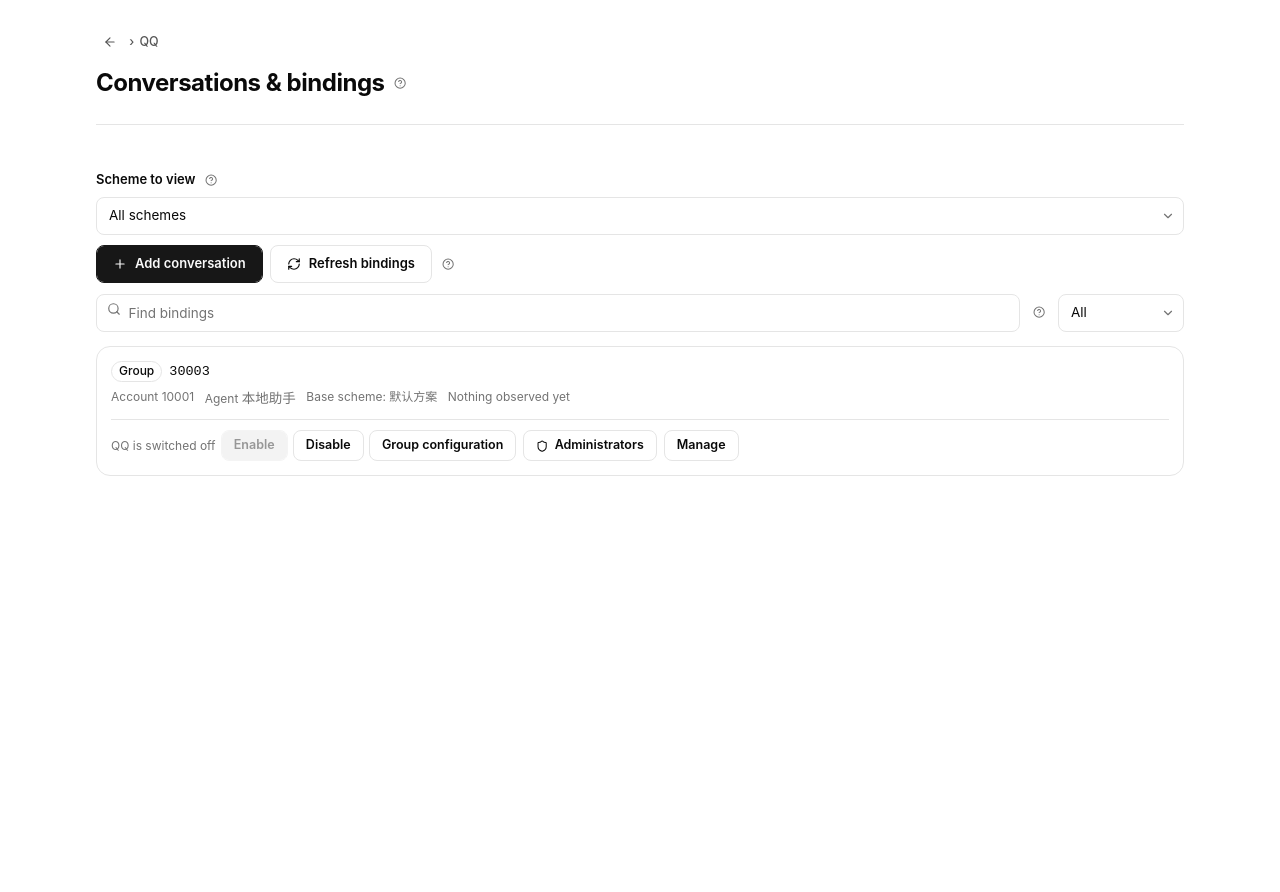
Test: QQ admin save lifecycle › en 渲染：管理员模式与名单的可达名称是共享翻译的稳定英文，不依赖中文旧词
Click the button "Administrators" at (590, 446), box [523,430,657,461]
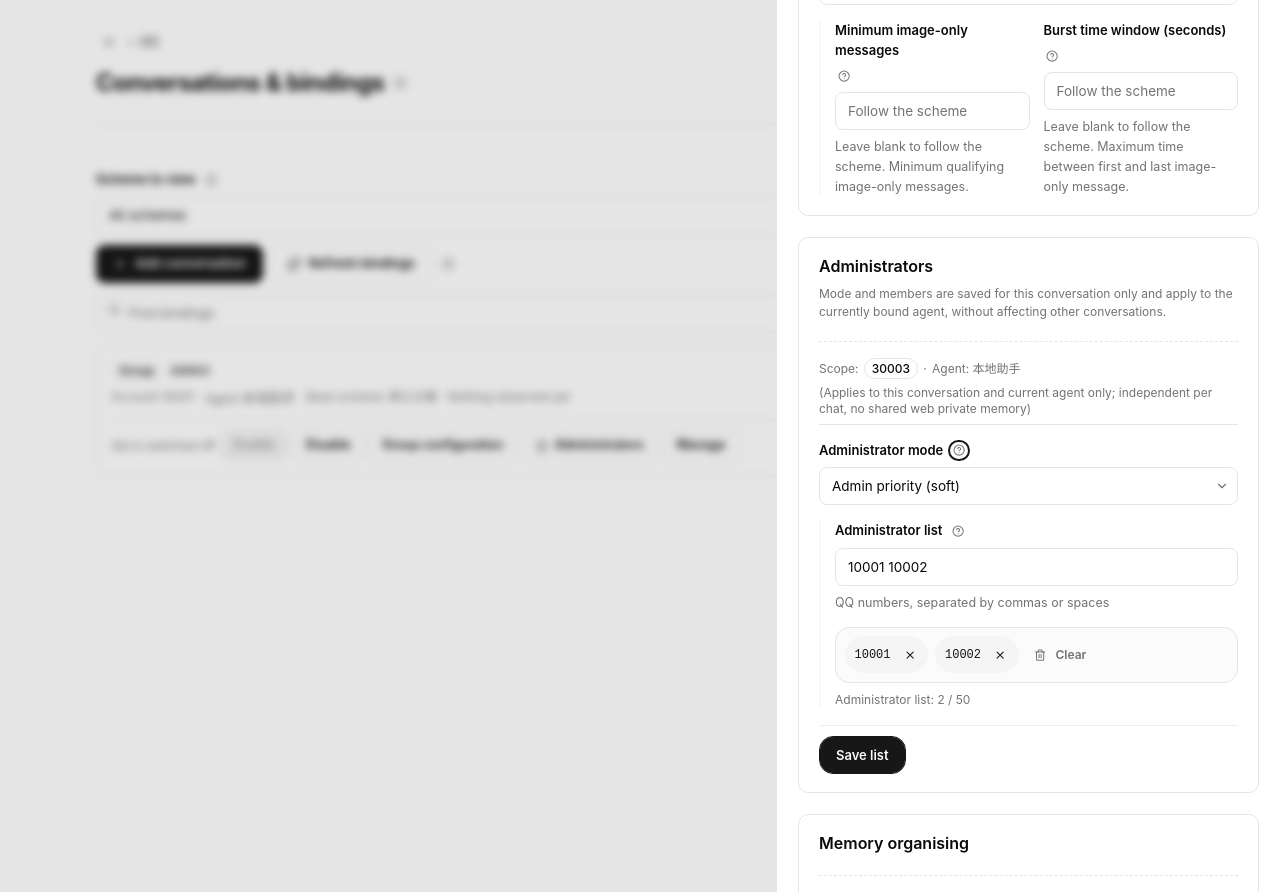
Result: the dropdown labelled "Administrator mode" is shown at [819,467,1238,505]
Result: the field labelled "Administrator list" is shown at [835,548,1238,586]
Result: the button "Save list" is shown at [819,736,906,774]
